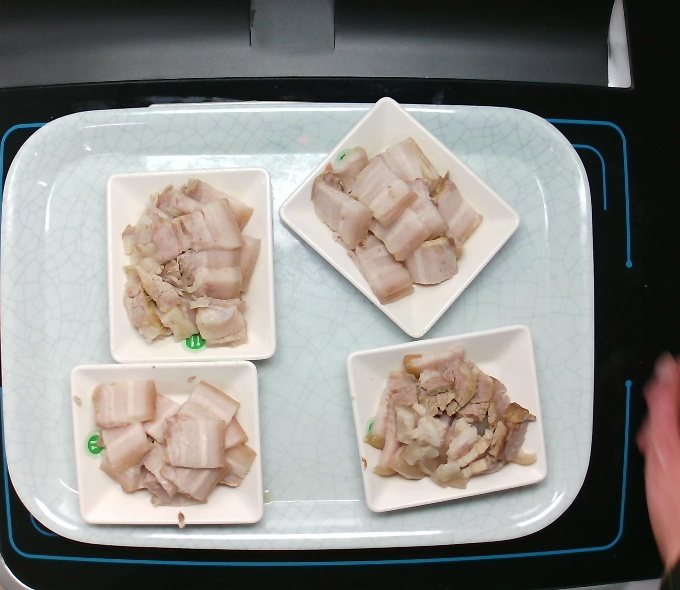wcq-BaiQieRou: (310, 134, 492, 304), (112, 175, 268, 356), (355, 348, 547, 494), (82, 369, 258, 515)
